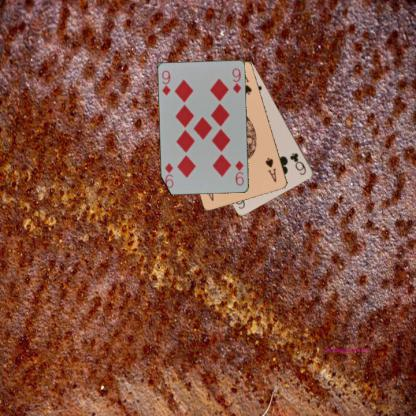6c: (288, 150, 308, 176)
9d: (233, 158, 245, 187), (160, 68, 172, 97)
As: (263, 155, 278, 184)
